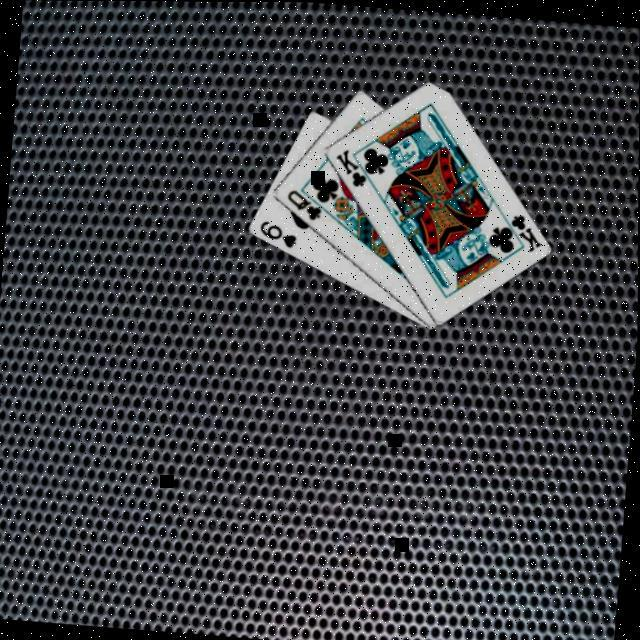6S: (256, 217, 300, 251)
KC: (331, 145, 379, 190), (498, 210, 546, 254)
QC: (283, 187, 326, 224)
